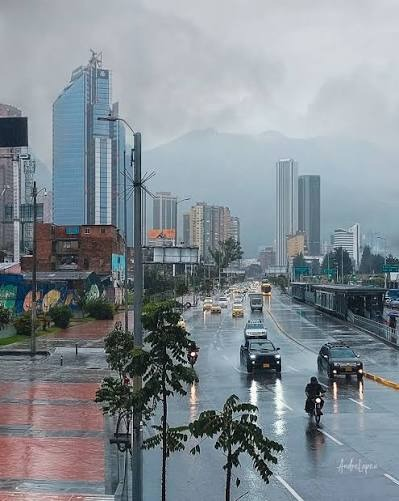car: (243, 332, 280, 374)
